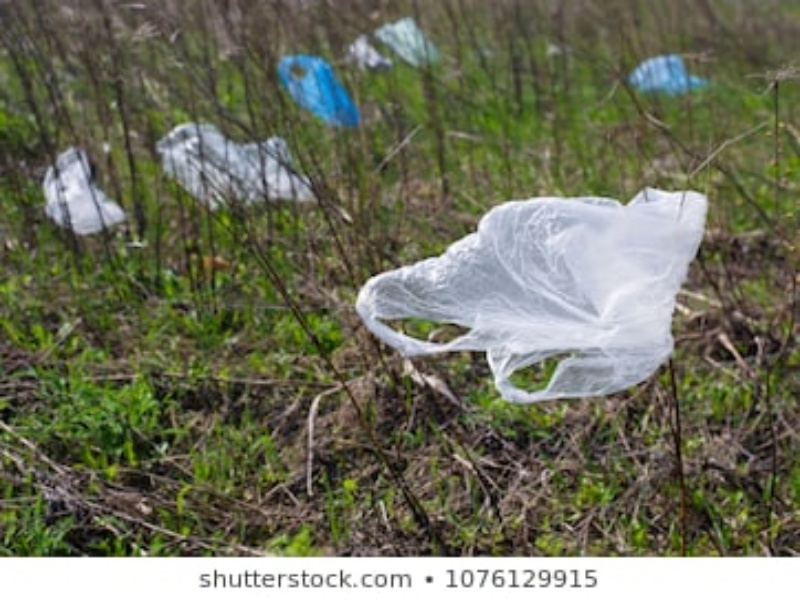plastic-bag: (361, 186, 709, 403), (157, 127, 315, 209), (42, 145, 129, 237), (277, 51, 353, 128), (629, 53, 712, 102)
